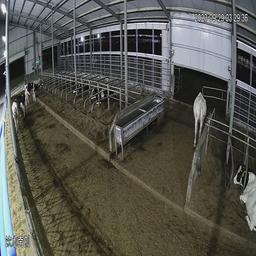cow: (230, 154, 255, 236), (187, 88, 207, 139), (85, 82, 109, 109), (22, 76, 42, 106), (6, 91, 21, 130)
